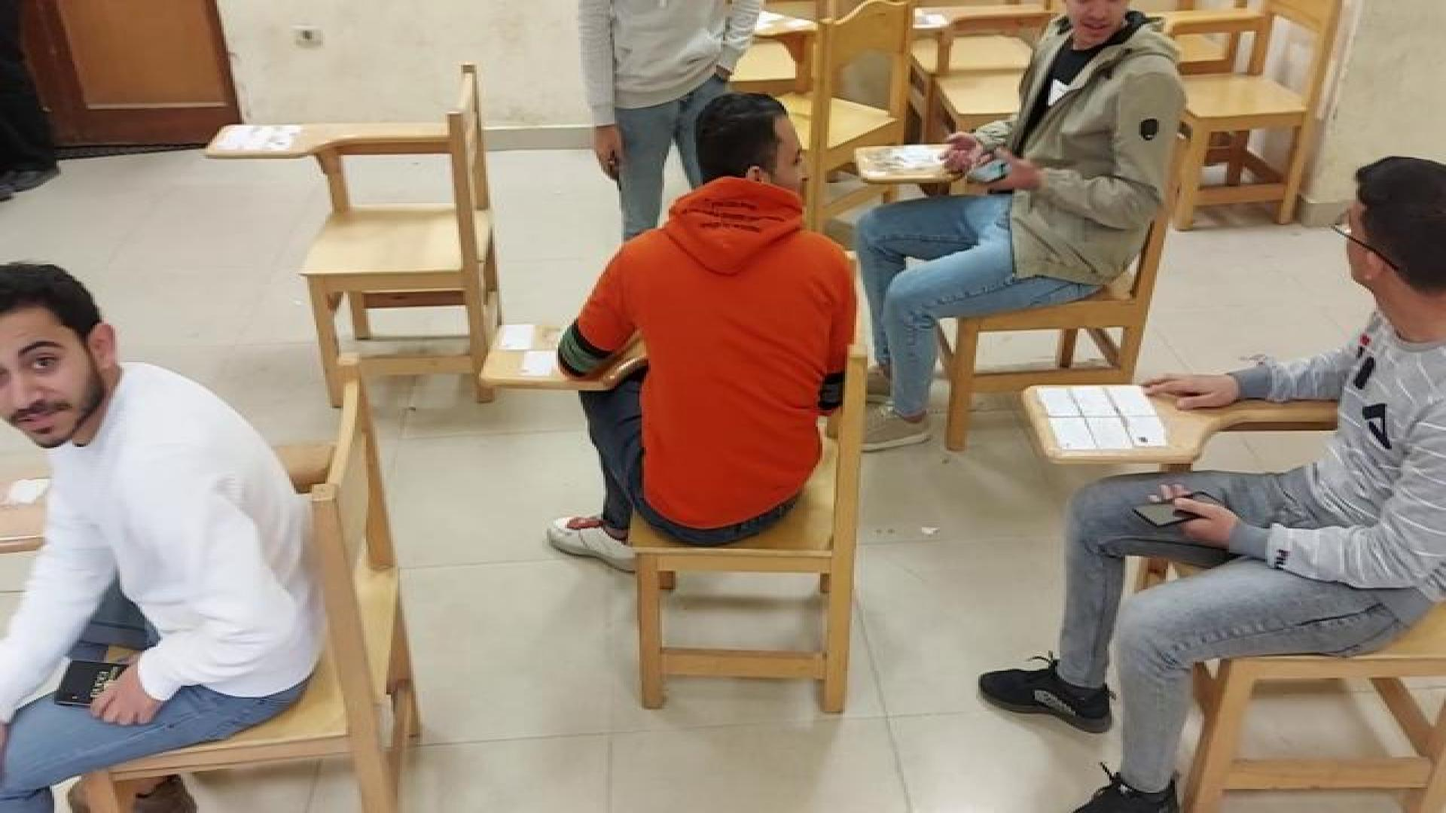Look Around: (0, 259, 239, 531), (1028, 0, 1213, 95)
Stand Up: (569, 0, 705, 209)
phone: (940, 141, 1055, 205), (54, 653, 147, 725), (1129, 496, 1230, 529)
